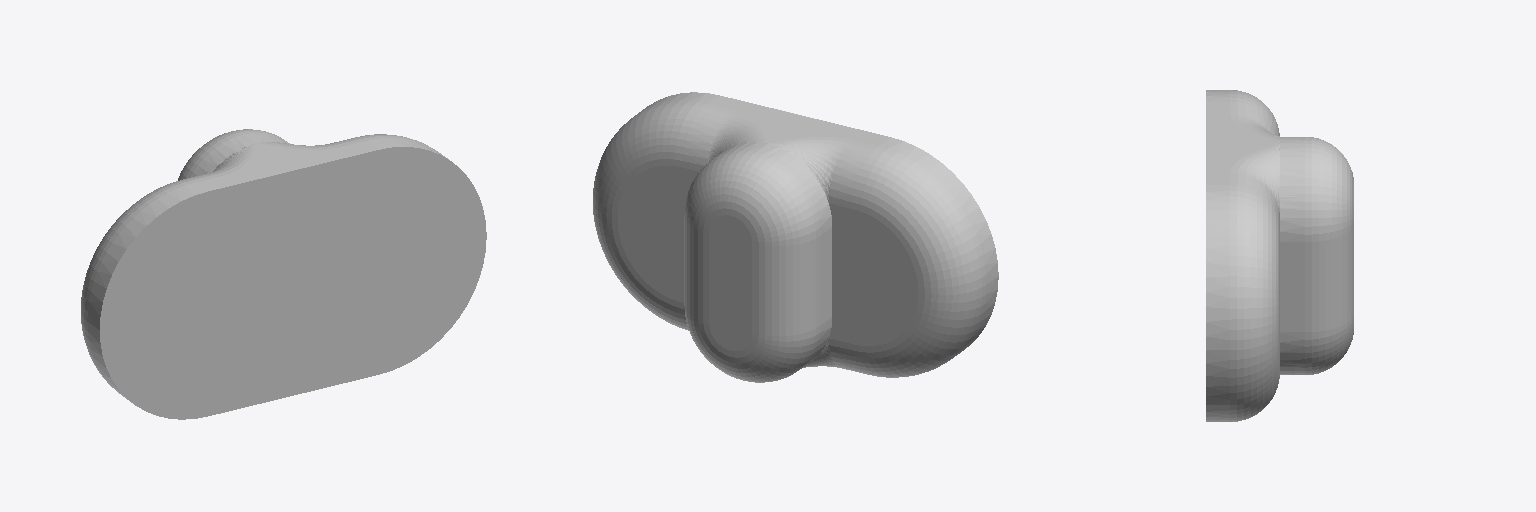
The picture shows the model from 3 angles: view 1: azimuth 30°, elevation 25°; view 2: azimuth 150°, elevation 25°; view 3: azimuth 270°, elevation 25°; orthographic projection.
Visible parts, largest first — view 1: оƬ; view 2: оƬ; view 3: оƬ.
Part boxes in pixels (left/top/right/bottom): оƬ: left=81, top=129, right=486, bottom=419; оƬ: left=593, top=92, right=998, bottom=382; оƬ: left=1206, top=90, right=1353, bottom=421.
Size of the model in its own units: 18 by 10 by 6.